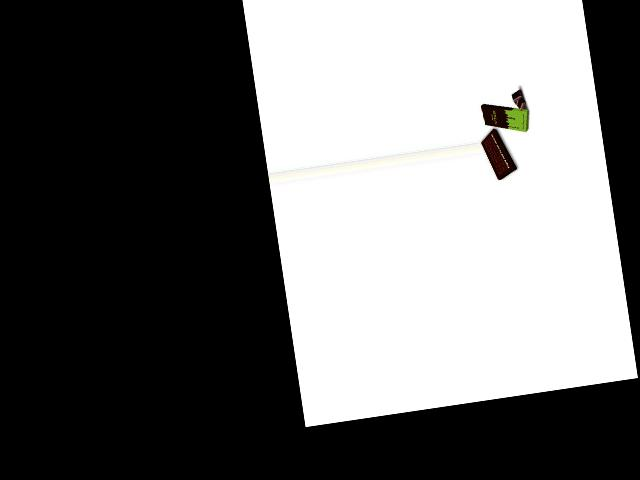chocolate: (480, 101, 533, 135)
